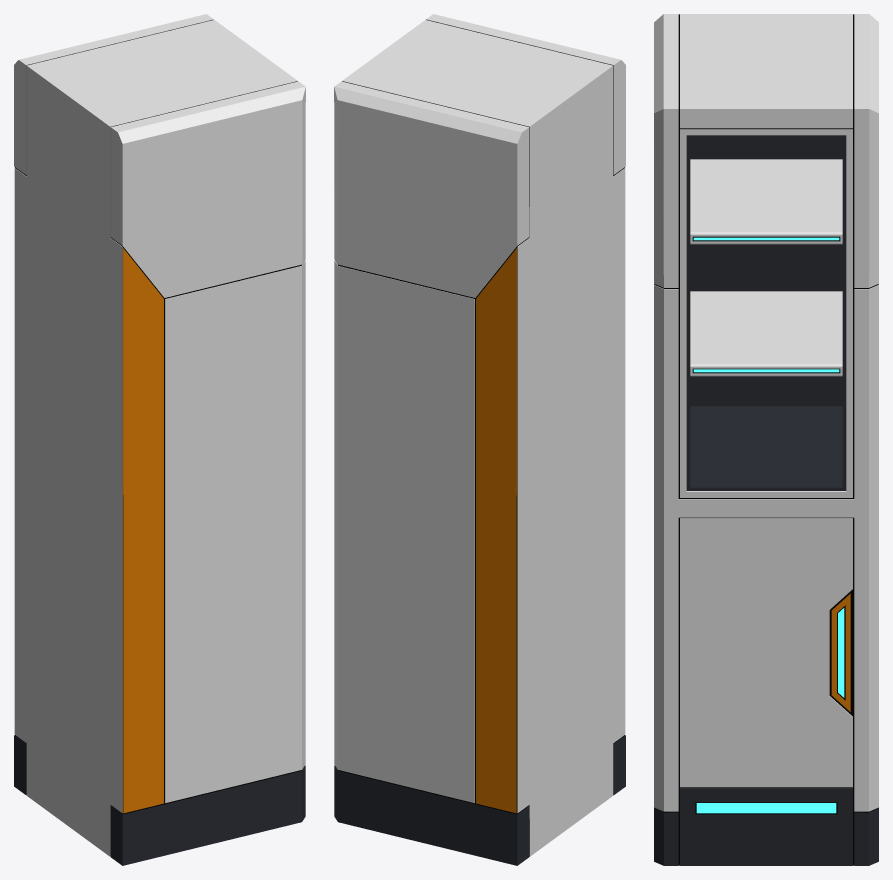
File: SM_Storage_Cabinet.fbx
3 renders of one model, left to right at view 1: azimuth 30°, elevation 25°; view 2: azimuth 150°, elevation 25°; view 3: azimuth 270°, elevation 25°, orthographic. The views are drawn at different scales.
Visible parts, largest first — view 1: SM_Storage_Cabinet_Base; view 2: SM_Storage_Cabinet_Base; view 3: SM_Storage_Cabinet_Base, SM_Storage_Cabinet_Door.
Boxes of the visible parts, x1,y1,x2,y2 form: SM_Storage_Cabinet_Base: [14, 14, 305, 865]; SM_Storage_Cabinet_Base: [334, 14, 625, 865]; SM_Storage_Cabinet_Base: [654, 14, 878, 865]; SM_Storage_Cabinet_Door: [680, 518, 852, 787].
Bounding box in the file's own units: 35 × 130 × 35.
